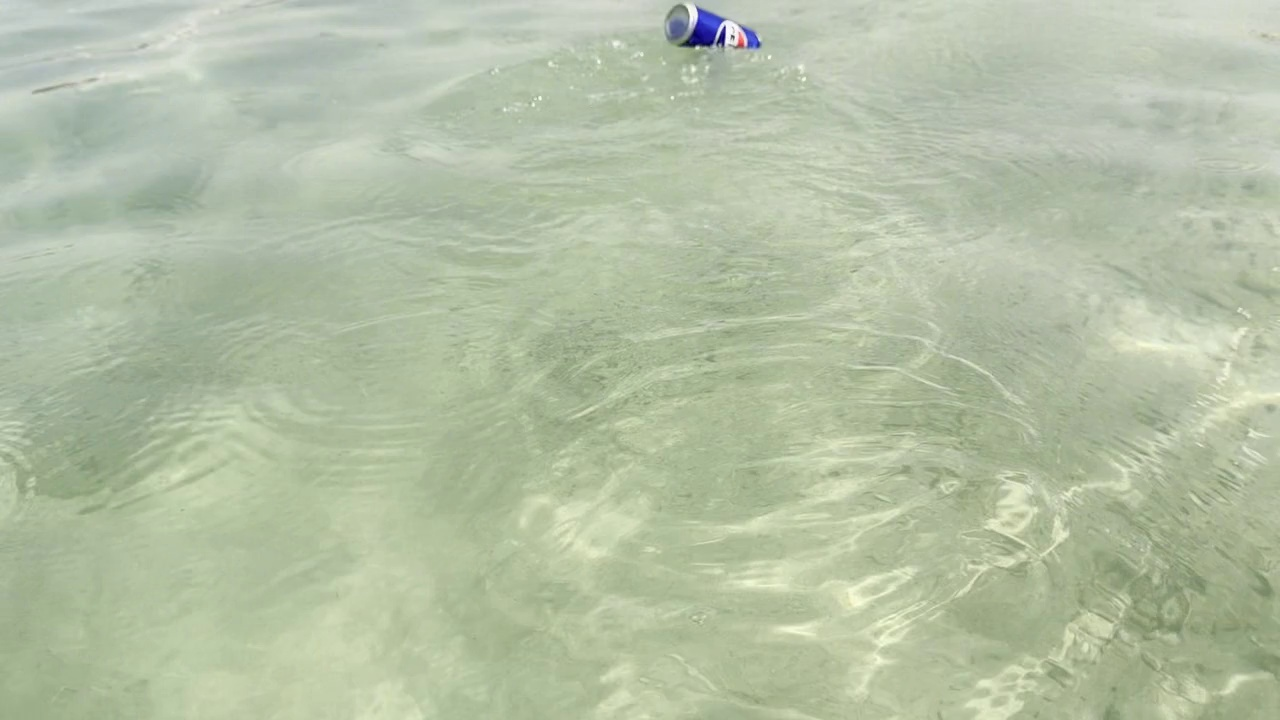debris: (668, 4, 768, 64)
